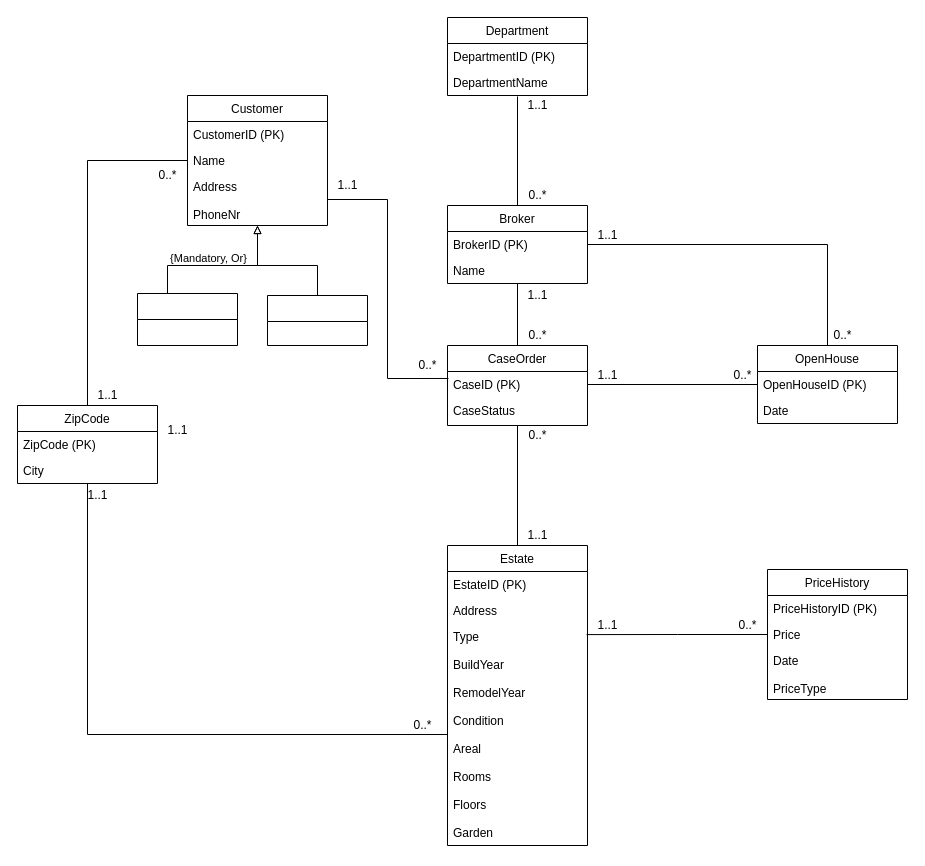
Some shapes in this 925 by 866 pixel diagram are drawn without their labels. The centre of each missing label's shape, as x and y in pixels:
"Buyer" belongs at (x=317, y=320).
"Seller" belongs at (x=187, y=319).
